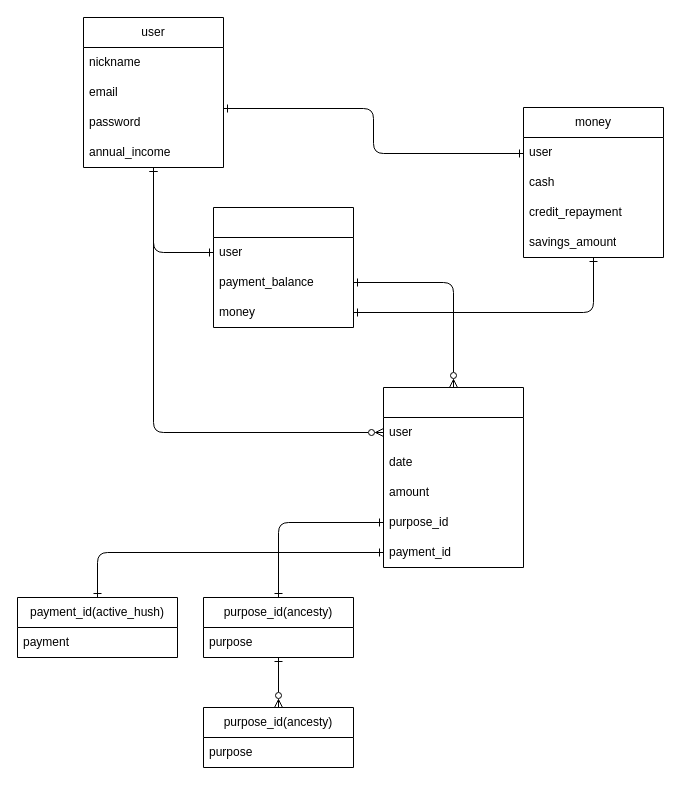
This 681x785 diagram has some shape labels left out. Each missing label, with the box of its shape:
budget: (212, 206, 354, 328)
payments_balance: (382, 386, 524, 568)
